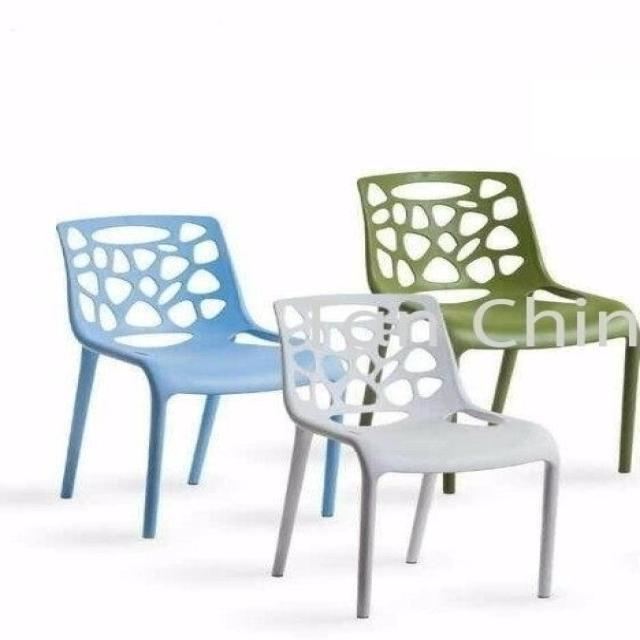chair: (58, 211, 352, 547), (268, 289, 566, 619), (353, 168, 640, 472)
